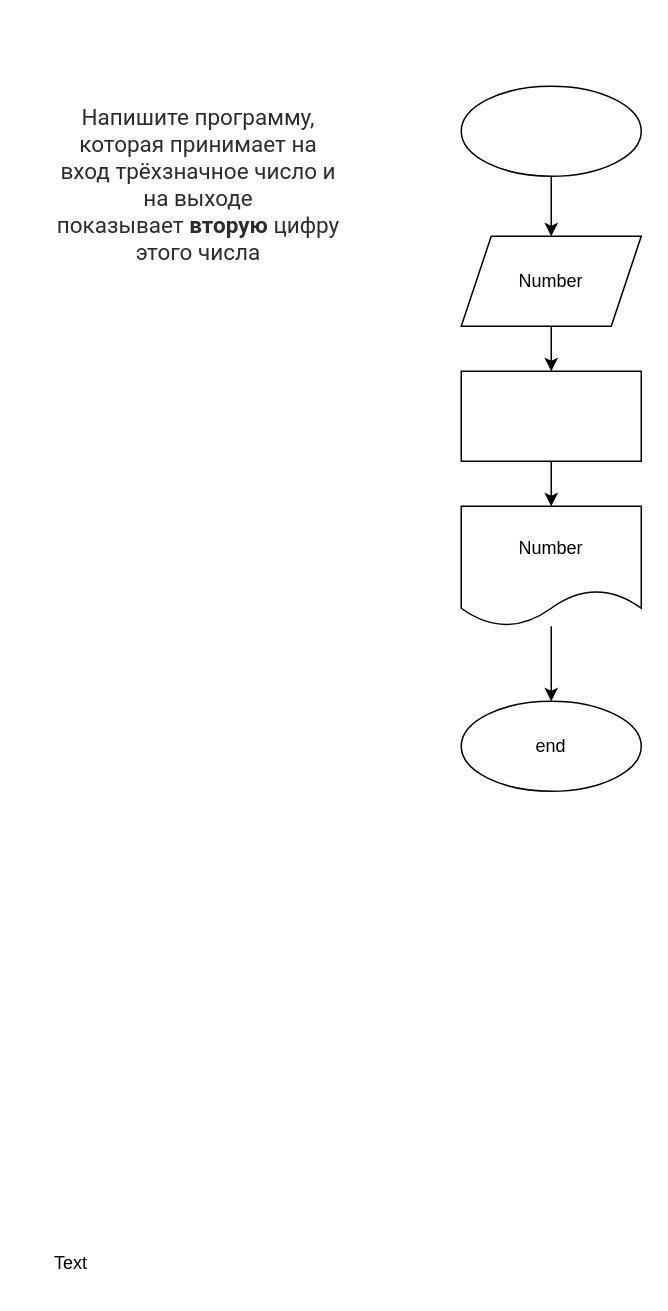
Image size: 668x1311. Some labels were removed from this diagram. Each missing label, with the centre of its shape:
"Number % 100 / 10" goes at (x=550, y=415).
"start" goes at (x=550, y=130).
